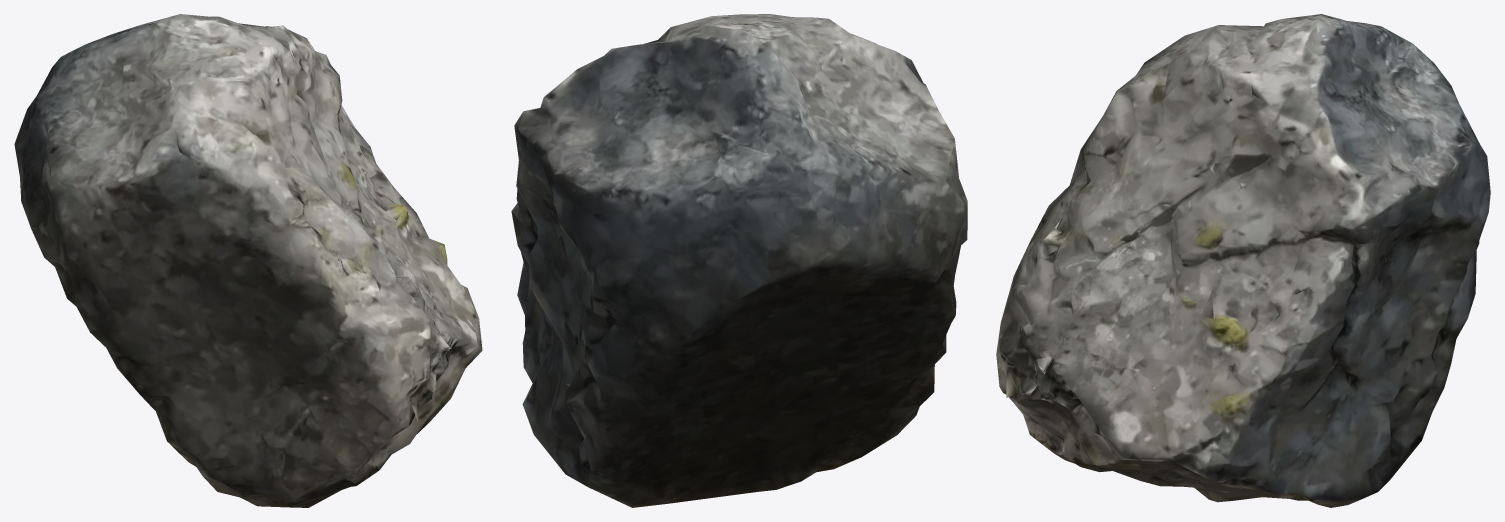
File: e_boulder.glb
3 renders of one model, left to right at view 1: azimuth 30°, elevation 25°; view 2: azimuth 150°, elevation 25°; view 3: azimuth 270°, elevation 25°, orthographic. The views are drawn at different scales.
Parts seen in each view (by area): view 1: tripo_node_3e43b018-0c55-4715-94c4-3430efb2b529; view 2: tripo_node_3e43b018-0c55-4715-94c4-3430efb2b529; view 3: tripo_node_3e43b018-0c55-4715-94c4-3430efb2b529.
Part boxes in pixels (x1,y1,x2,y2): tripo_node_3e43b018-0c55-4715-94c4-3430efb2b529: (14, 14, 482, 507); tripo_node_3e43b018-0c55-4715-94c4-3430efb2b529: (511, 14, 967, 507); tripo_node_3e43b018-0c55-4715-94c4-3430efb2b529: (996, 14, 1490, 507).
Bounding box in the file's own units: 0.9501 × 1 × 0.9872.
Materials: 1 (1 with a texture image).
